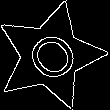O_SE: (17, 23, 84, 89)
